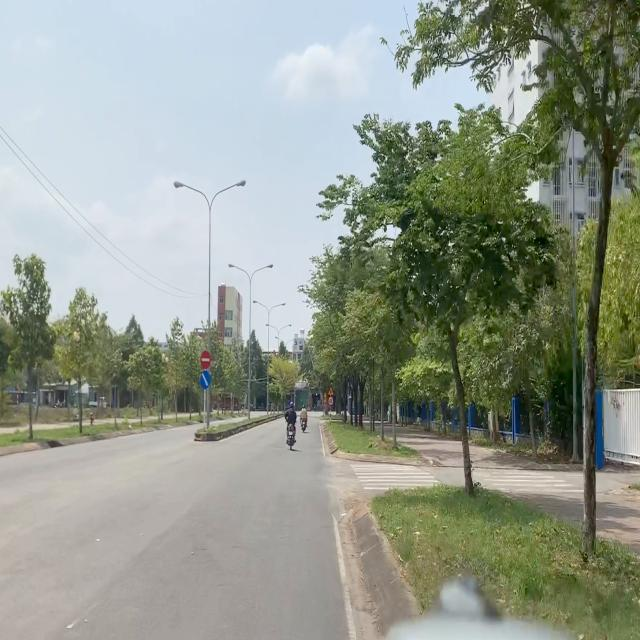Cam nguoc chieu: (200, 350, 211, 369)
Giao voi duong khong uu tien: (328, 385, 334, 396)
Hieu lenh: (200, 369, 211, 390)
Toc do toi da: (328, 396, 333, 406)
